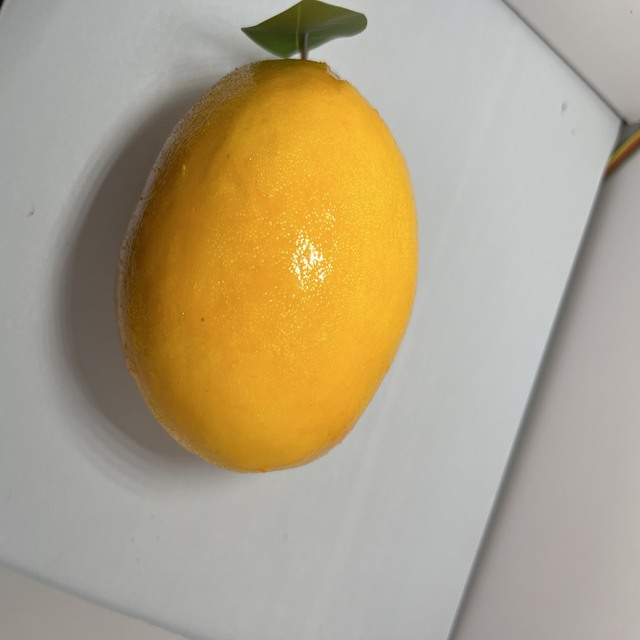Cam vang: (112, 47, 429, 479)
